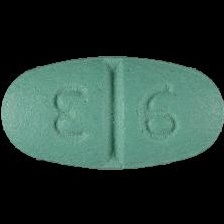54868-6104: (0, 0, 224, 224)
